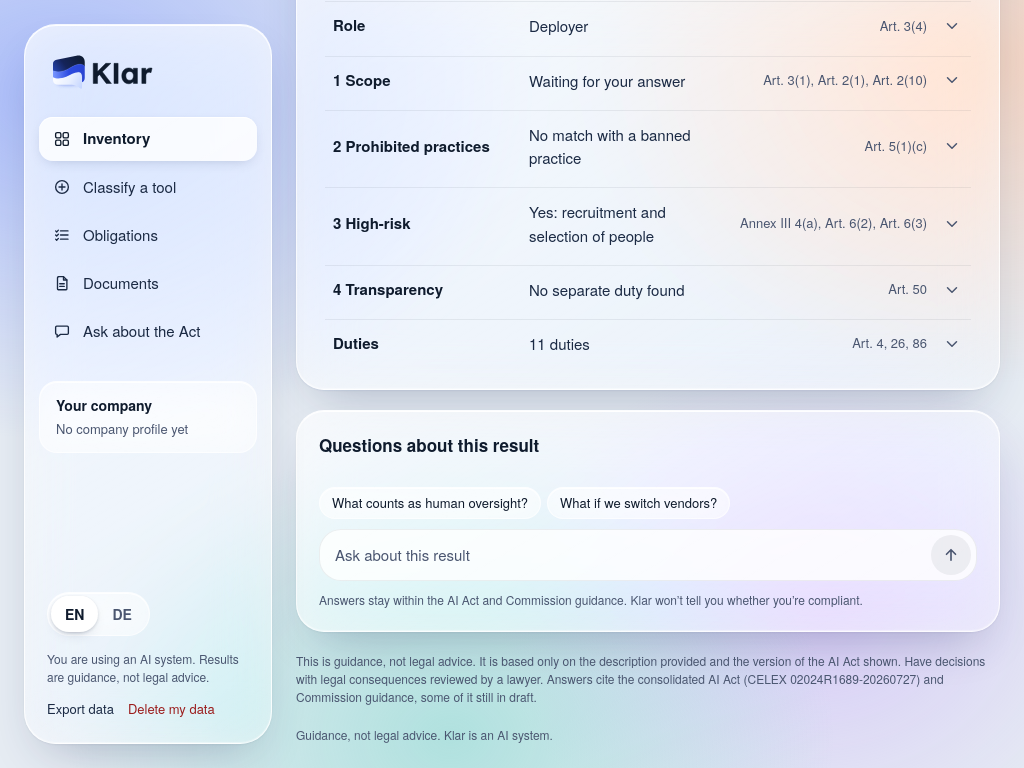
Questions about this result › fills the field from a suggestion without sending it
(page scrolled)
Click the button "What if we switch vendors?" at (639, 503), box [547,487,730,519]
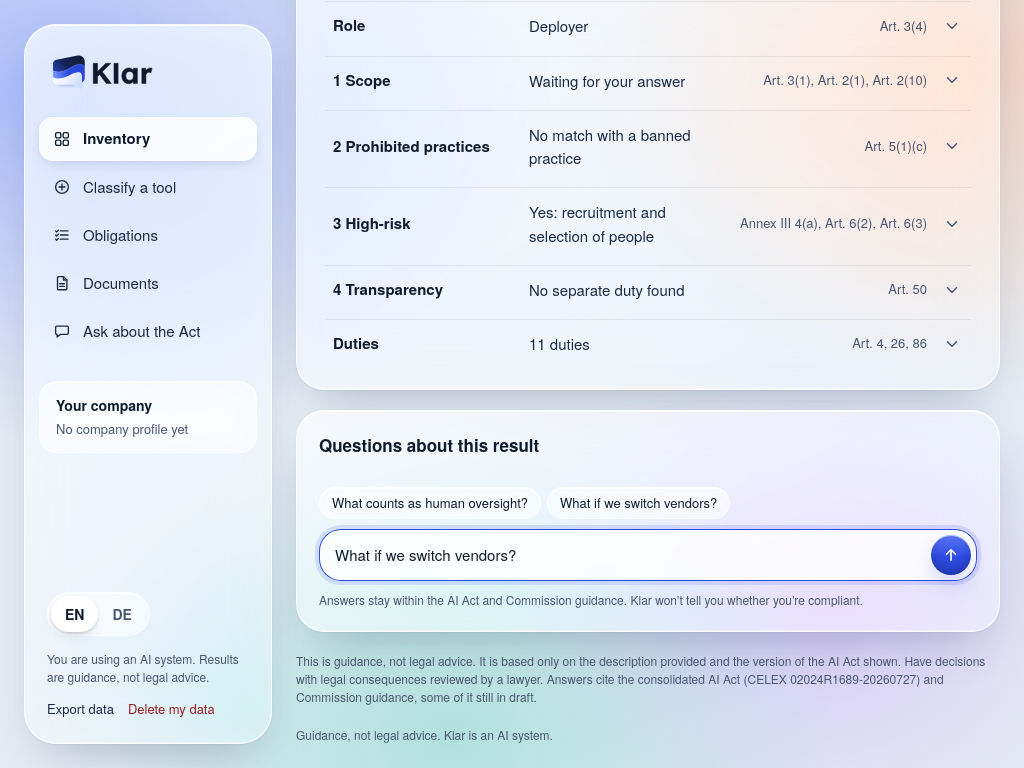
Now the text box holds "What if we switch vendors?", box [335,535,923,575]
